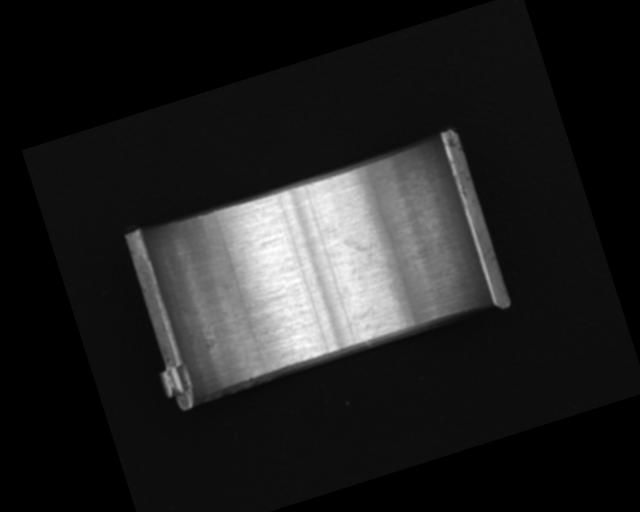blot: (338, 227, 389, 281)
